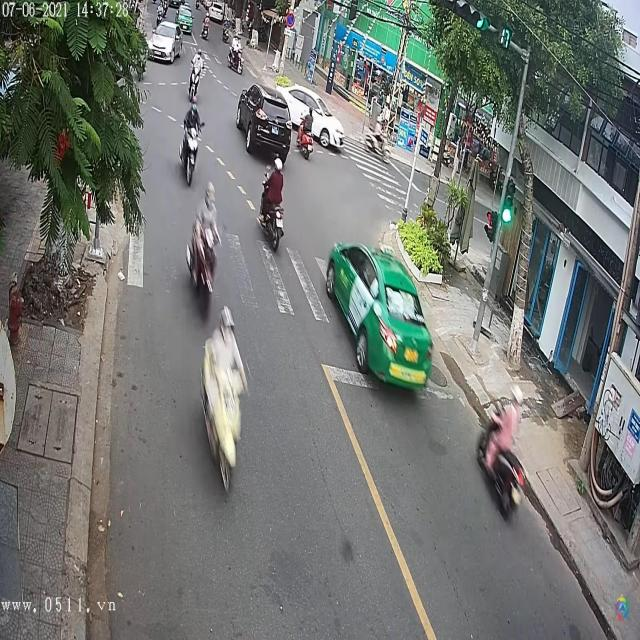car: (324, 240, 434, 393), (274, 84, 344, 148), (236, 84, 292, 163), (148, 23, 180, 64)
motorcycle: (258, 169, 286, 253), (178, 111, 203, 186), (187, 60, 202, 102), (297, 130, 314, 159), (227, 46, 244, 74)
